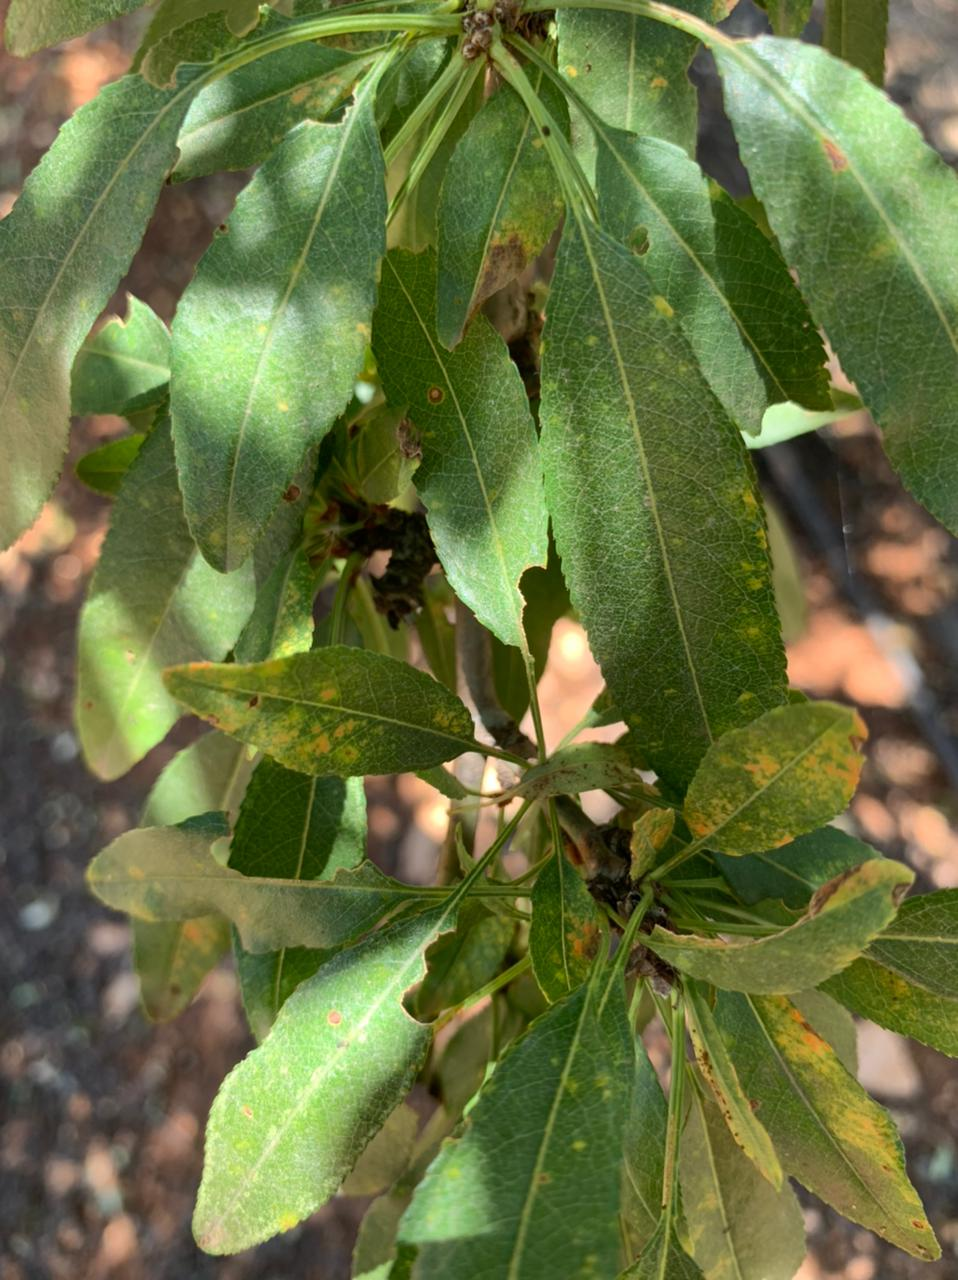rouille: (712, 33, 958, 533), (187, 906, 464, 1254), (367, 248, 550, 652), (158, 642, 478, 780)
